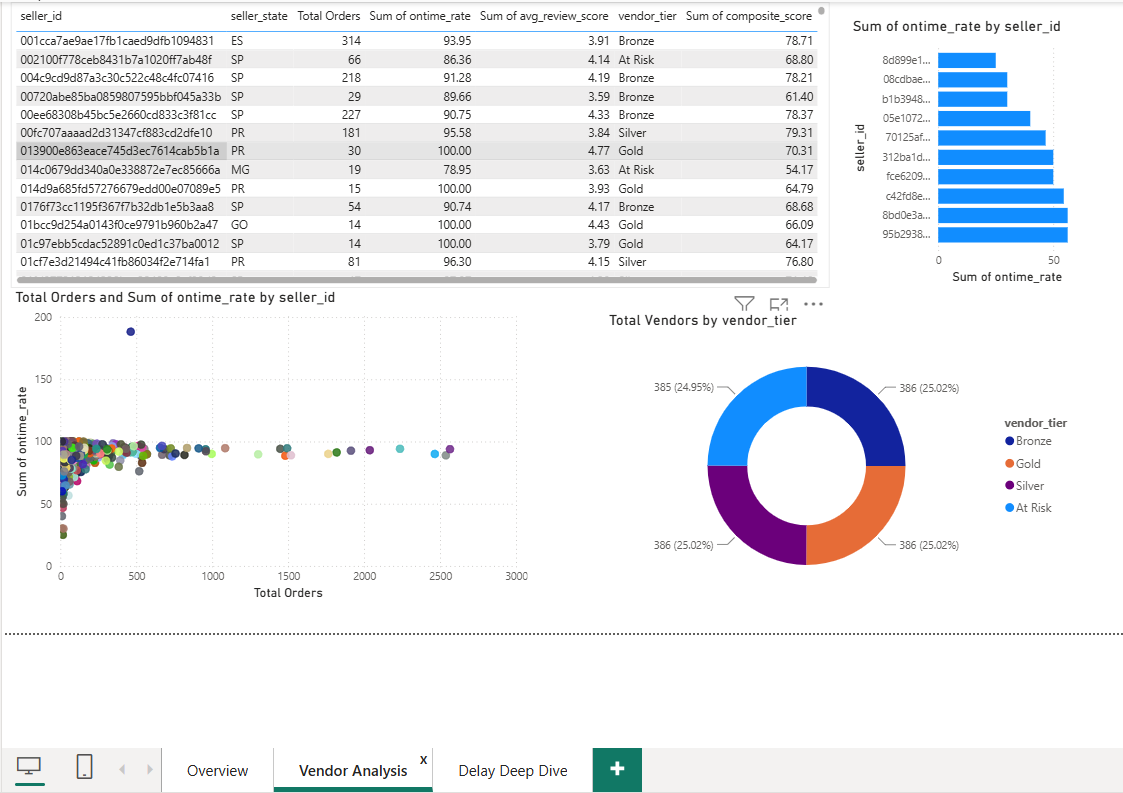

What the dashboard file says about the page in this screenshot:
{"tool":"powerbi","page":{"name":"Vendor Analysis","canvas":[1280,720],"ordinal":1},"visuals":[{"type":"tableEx","fields":{"Values":["vendor_scorecard_full.seller_id","vendor_scorecard_full.seller_state","vendor_scorecard_full.Total Orders","Sum(vendor_scorecard_full.ontime_rate)","Sum(vendor_scorecard_full.avg_review_score)","vendor_scorecard_full.vendor_tier","Sum(vendor_scorecard_full.composite_score)"]},"box":[10,0,933.6,326.4],"z":0},{"type":"scatterChart","fields":{"X":["vendor_scorecard_full.Total Orders"],"Y":["Sum(vendor_scorecard_full.ontime_rate)"],"Series":["vendor_scorecard_full.seller_id"]},"box":[10,326.4,594.4,360.6],"z":1000},{"type":"clusteredBarChart","fields":{"Category":["vendor_scorecard_full.seller_id"],"Y":["Sum(vendor_scorecard_full.ontime_rate)"]},"box":[965,17.1,272.2,309.3],"z":1001},{"type":"donutChart","fields":{"Category":["vendor_scorecard_full.vendor_tier"],"Y":["vendor_scorecard_full.Total Vendors"]},"box":[687,352.1,550.2,335],"z":1002}]}

Visuals, with their boxes on the page's 1280x720 design canvas (x1, y1, x2, y2). These are canvas units, not pixel positions in the 1123x793 screenshot, which may show the page scaled, cropped or inside an application window:
tableEx - vendor_scorecard_full.seller_id x vendor_scorecard_full.seller_state: 10 0 944 326
scatterChart - vendor_scorecard_full.Total Orders x Sum(vendor_scorecard_full.ontime_rate): 10 326 604 687
clusteredBarChart - vendor_scorecard_full.seller_id x Sum(vendor_scorecard_full.ontime_rate): 965 17 1237 326
donutChart - vendor_scorecard_full.vendor_tier x vendor_scorecard_full.Total Vendors: 687 352 1237 687
